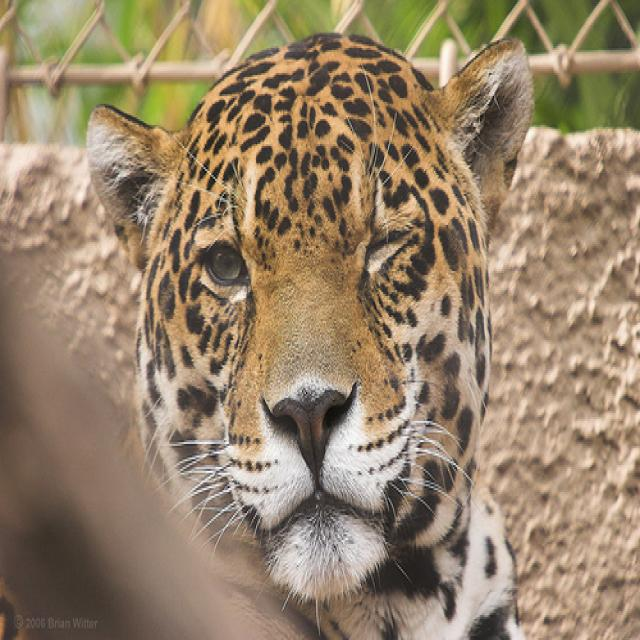Leopard: (80, 27, 522, 634)
